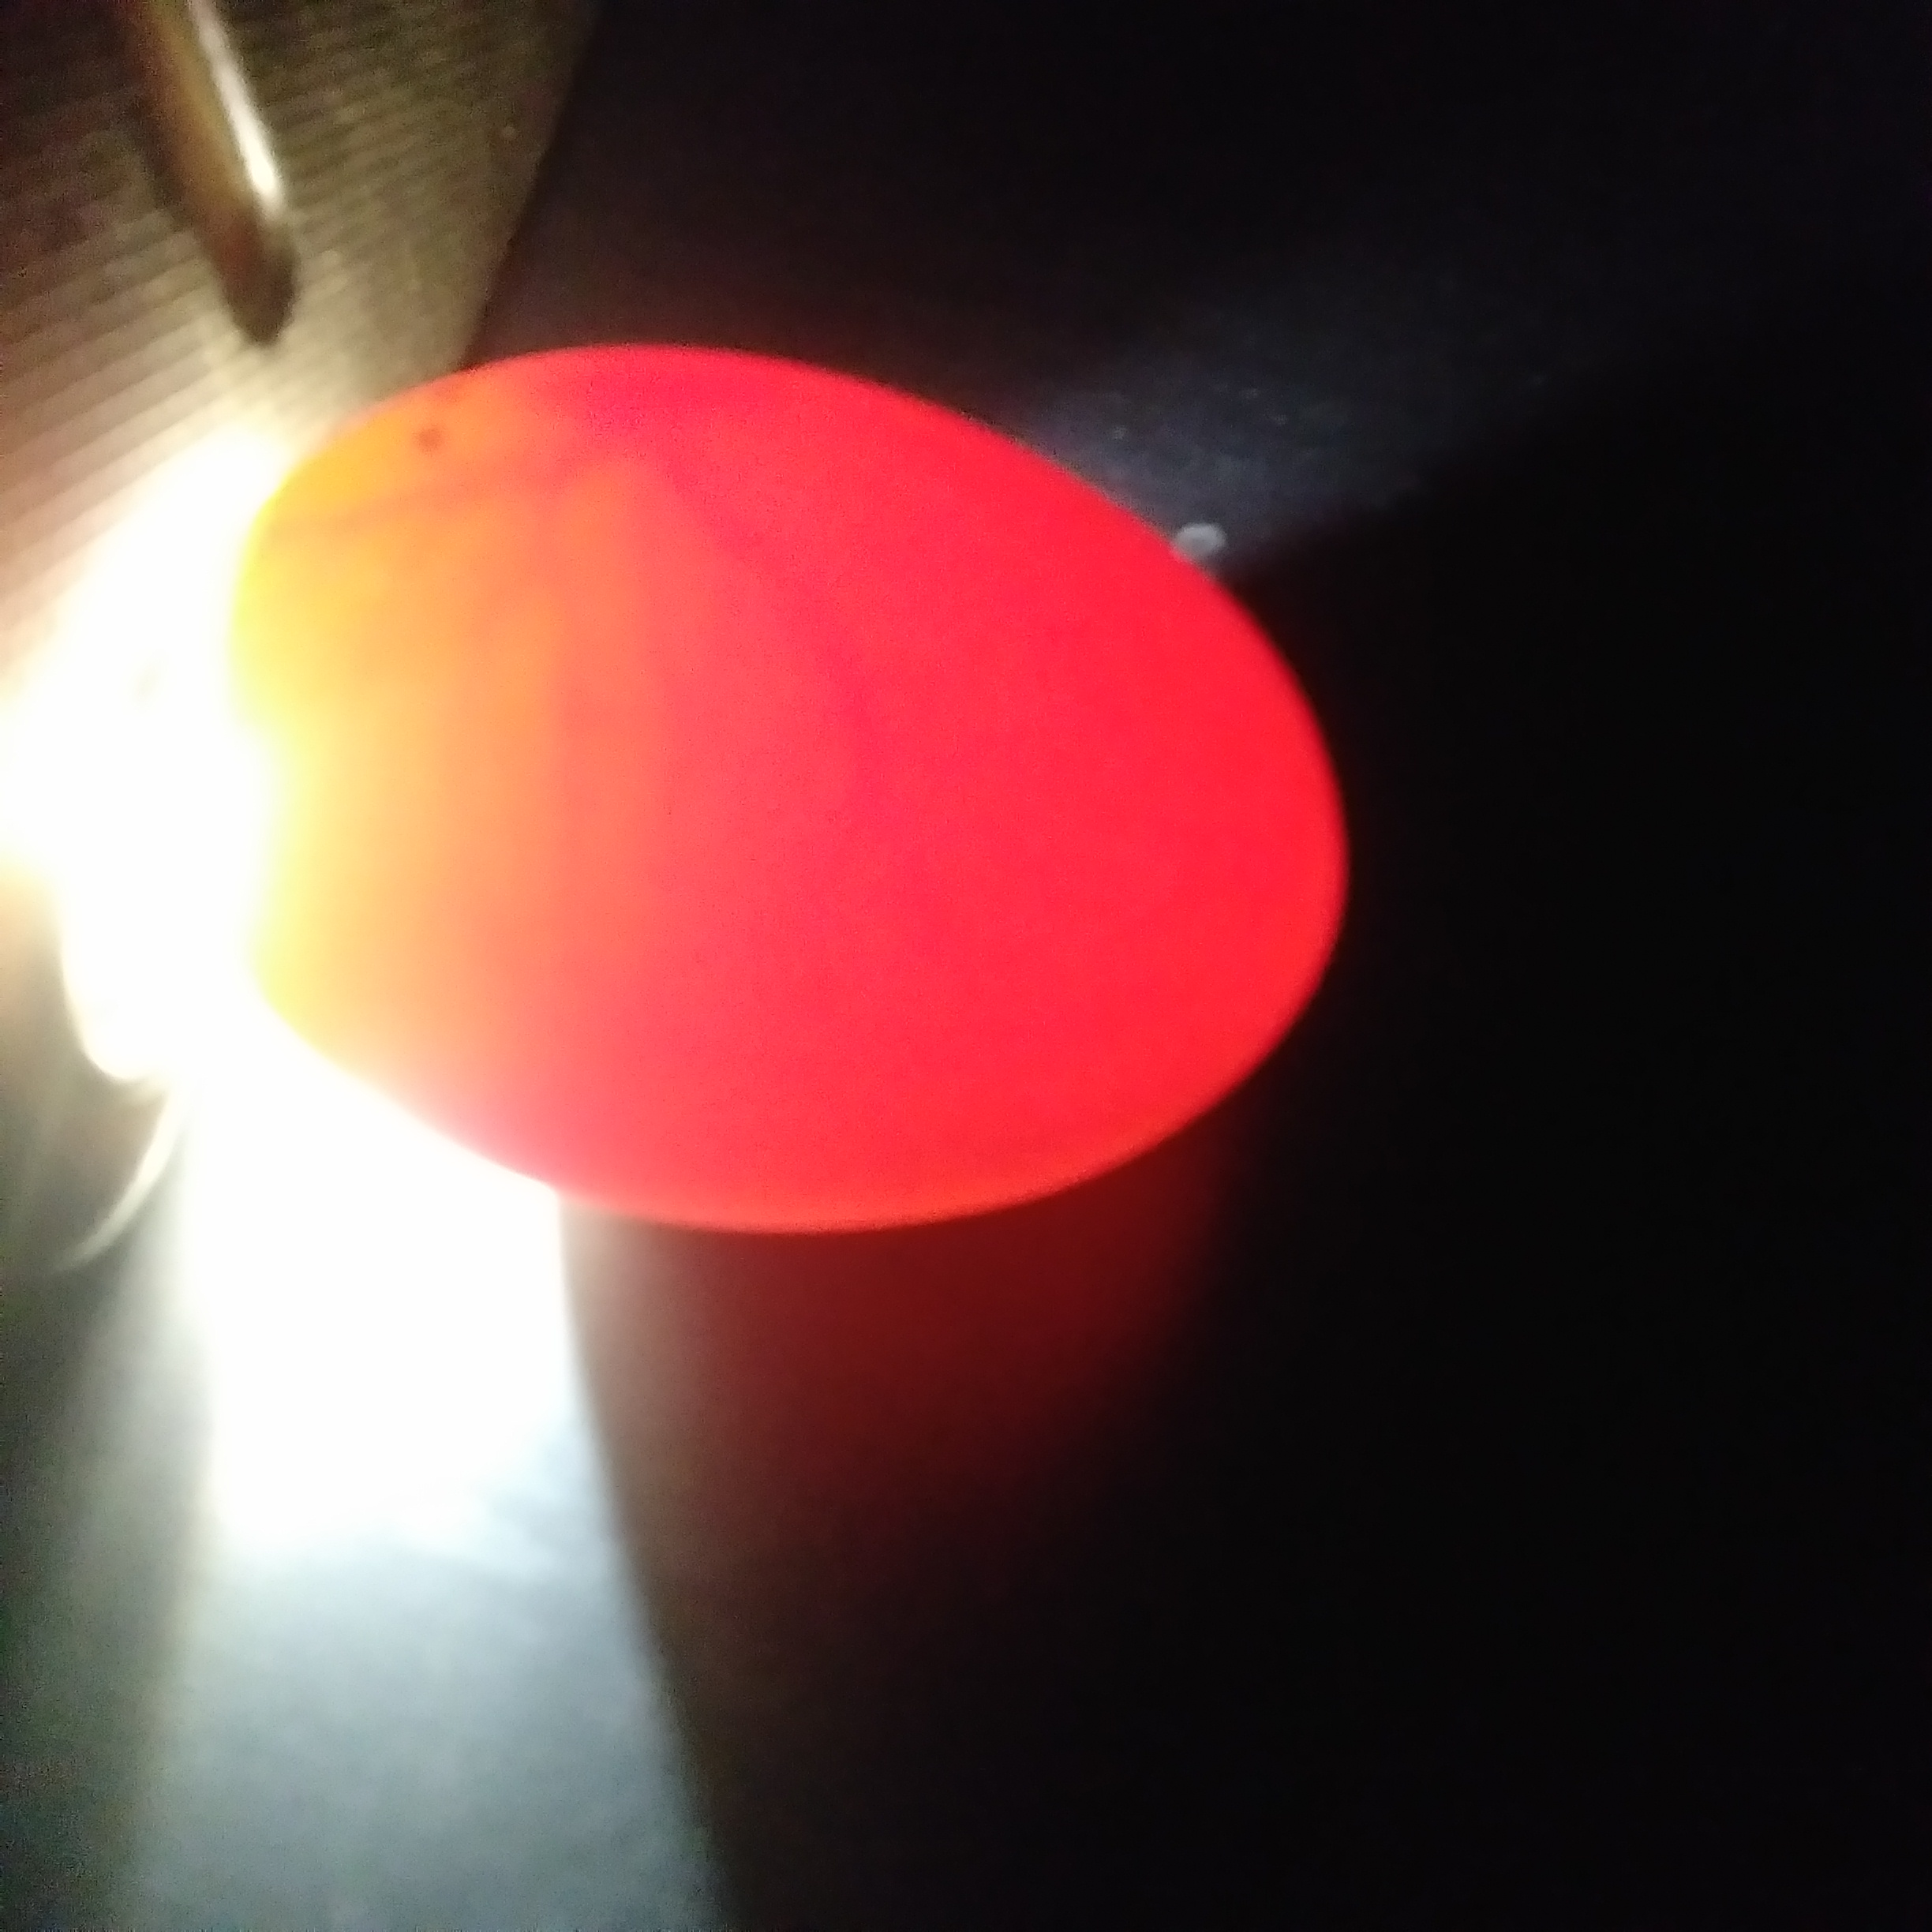bloodcell: (375, 446, 1035, 936)
